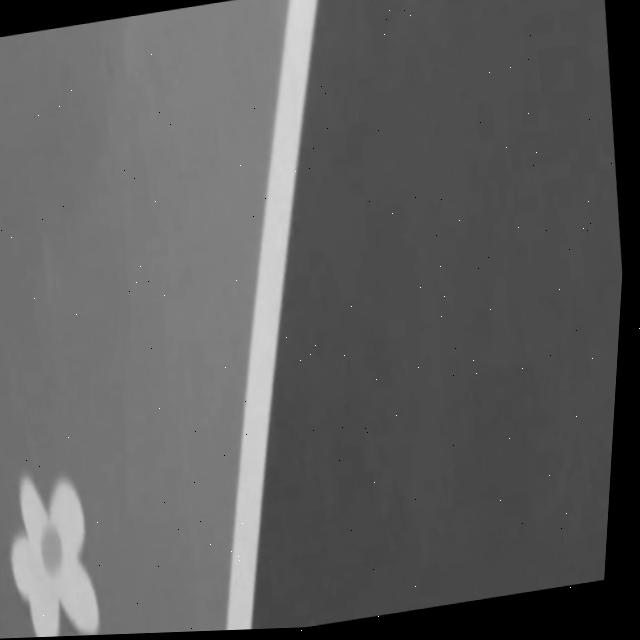right: (228, 0, 318, 630)
